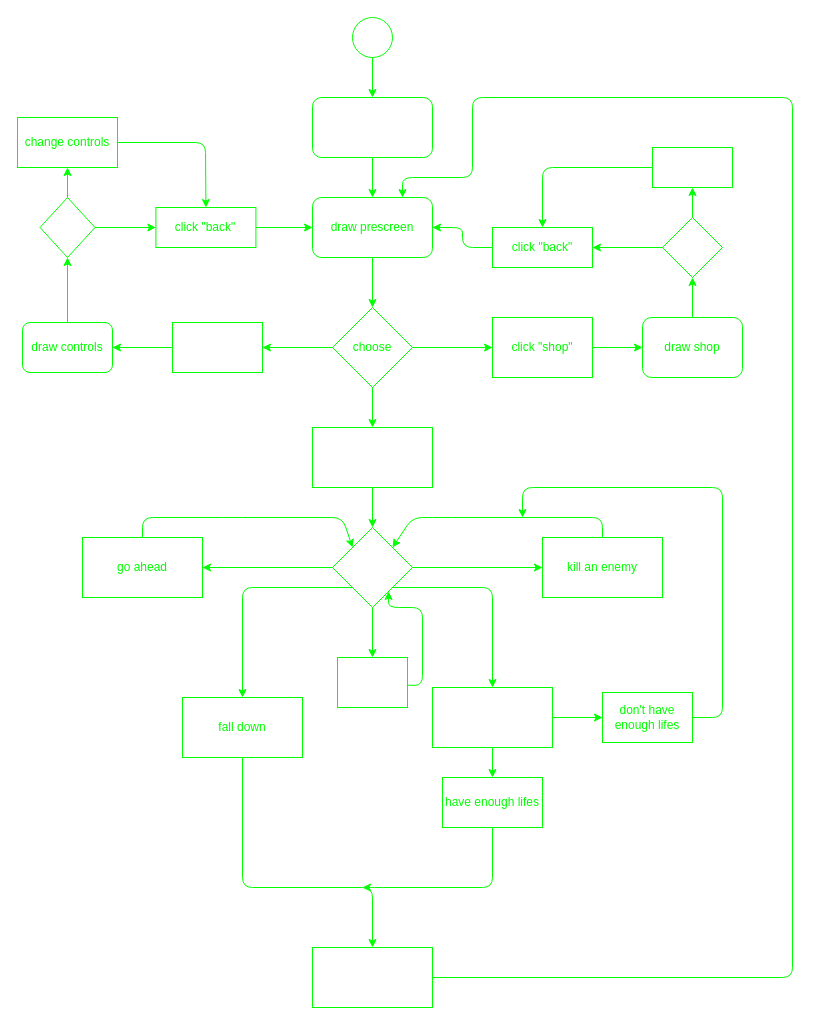
The diagram is 818 pixels wide and 1025 high, and some of its shapes have lost their labels. The box of each missing label's shape, as (x1, y1, x2, y2) in pixels:
buy something: (652, 146, 732, 188)
click "controls": (172, 322, 262, 372)
click "start": (312, 426, 432, 488)
collect an item: (336, 656, 408, 708)
die: (312, 946, 432, 1008)
draw intro: (312, 96, 432, 158)
jump against an enemy: (432, 686, 552, 748)
